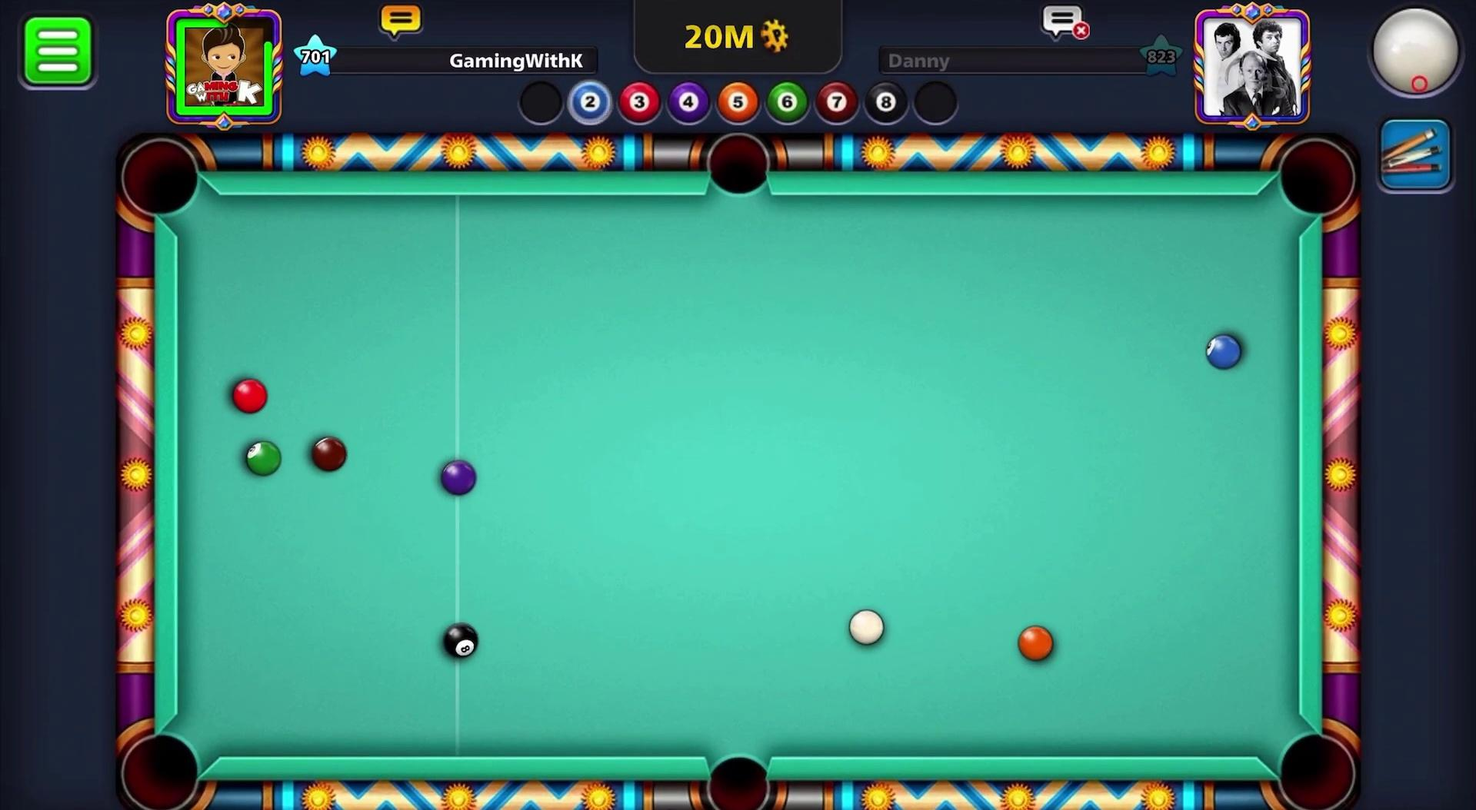Ball: (435, 619, 484, 667), (1202, 324, 1245, 378), (435, 456, 482, 503), (303, 430, 352, 475), (228, 371, 272, 415), (1016, 619, 1059, 663), (241, 438, 284, 478)
Hole: (108, 128, 212, 231), (1267, 131, 1365, 231), (1267, 715, 1363, 809), (113, 724, 205, 809), (689, 738, 784, 809), (703, 125, 775, 204)
Play_Area: (177, 194, 1298, 759)
Spin: (1342, 0, 1474, 117)
White: (841, 605, 890, 649)
